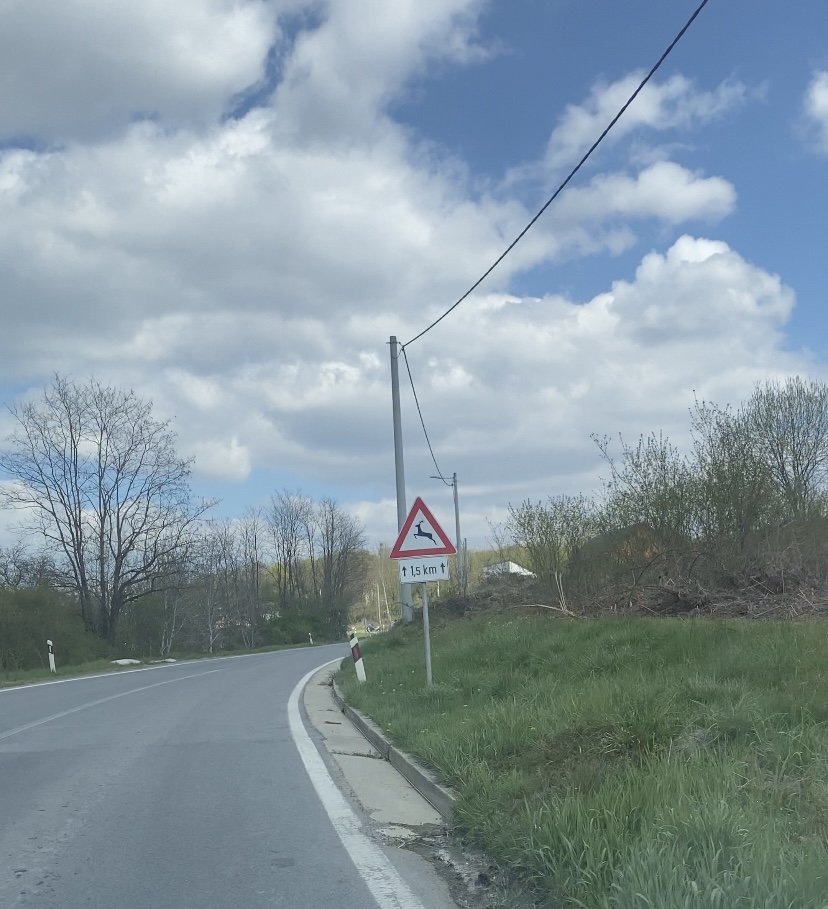Divljač na cesti: (389, 496, 458, 559)
